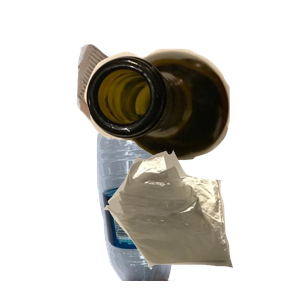cardboard: (74, 42, 225, 170)
glass: (82, 46, 300, 199)
plastic: (94, 120, 267, 300)
trash: (101, 148, 300, 300)
